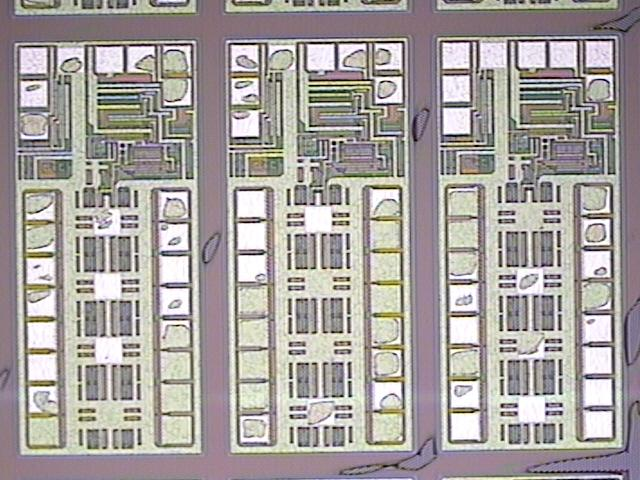COATING BAD: (17, 4, 640, 480)
